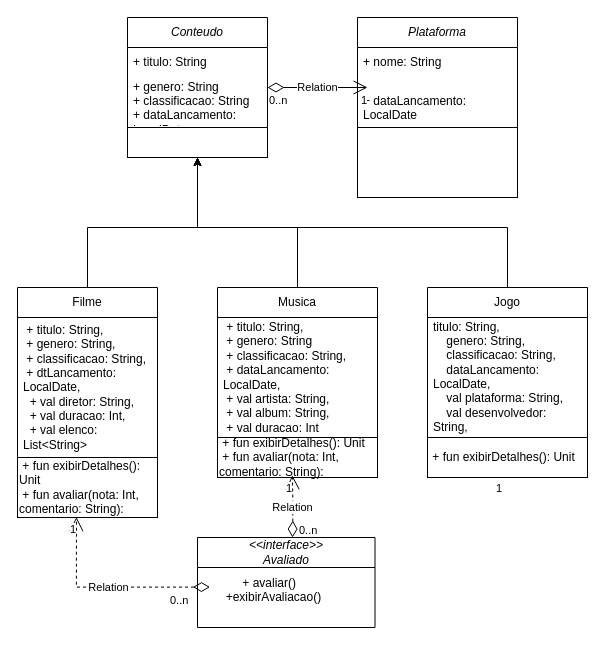
The diagram is 605 pixels wide and 645 high, and some of its shapes have lost their labels. The shapes that lost their labels are listed below. From the top down, each one's centre as x and y in pixels, then its label:
At (x=197, y=142): "+ exibirDetalhes (): Unit".
At (x=437, y=162): "+ adicionaConteudo (conteudo: Conteudo): Unit + exibirConteudos: Unit".
